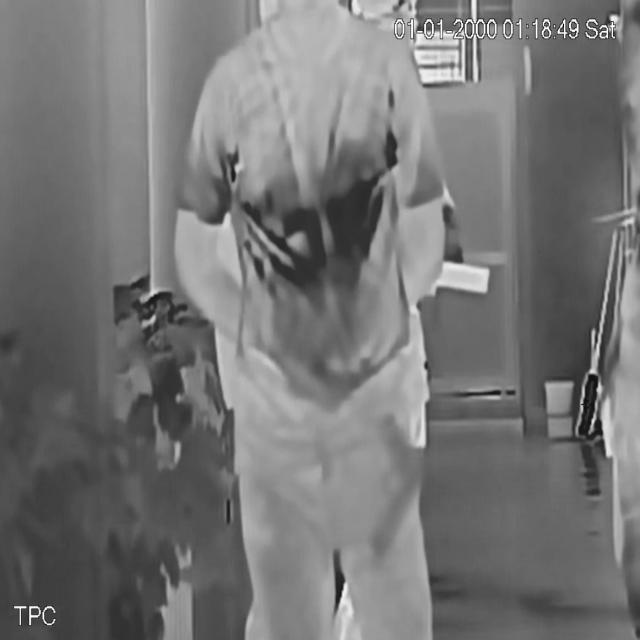Weapon: (364, 406, 434, 569)
